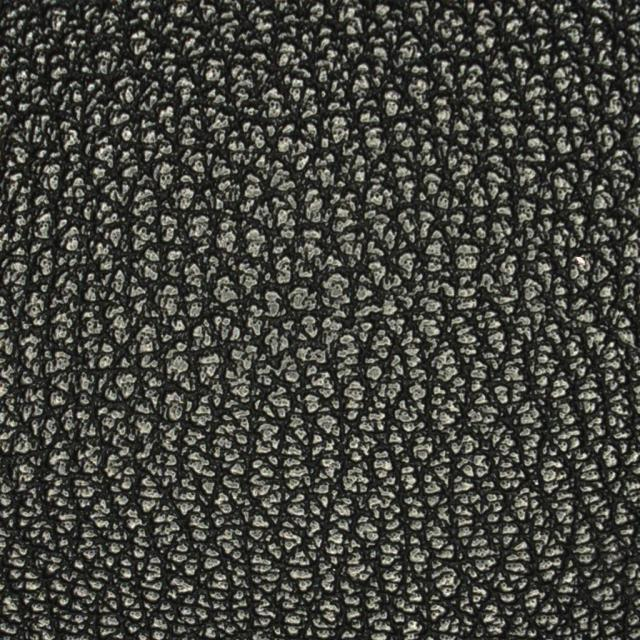pinhole: (504, 152, 623, 338)
